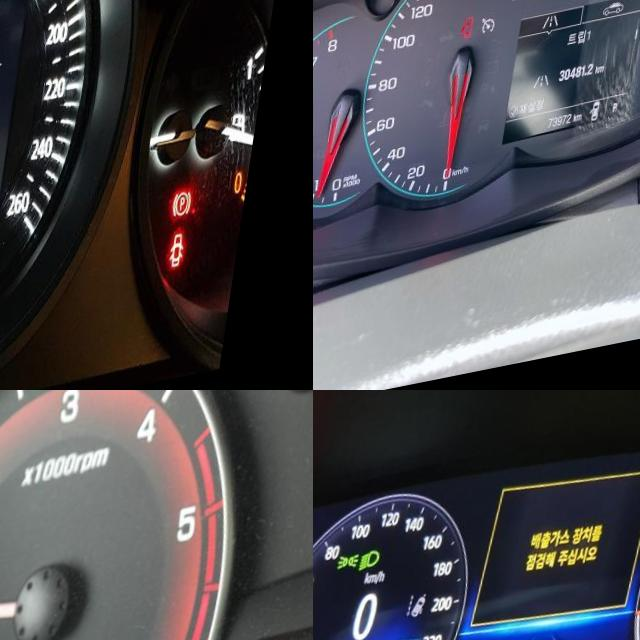Doors: (182, 256, 201, 292), (468, 27, 483, 52)
Low beam: (362, 552, 387, 581)
SideLamp: (340, 556, 366, 577)
